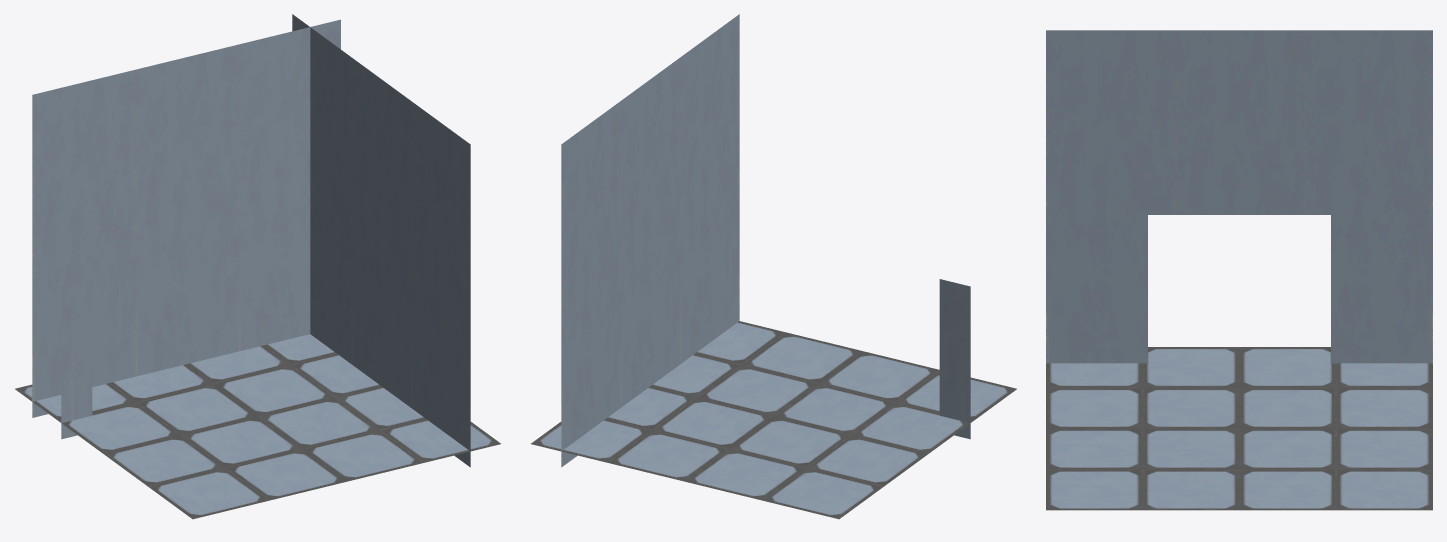
The model's file is Room_MTN_Door_End_1.glb.
3 views of the same model, side by side, from view 1: azimuth 30°, elevation 25°; view 2: azimuth 150°, elevation 25°; view 3: azimuth 270°, elevation 25° (orthographic). The views are drawn at different scales.
Visible parts, largest first — view 1: Room_MTN_Door_End_1; view 2: Room_MTN_Door_End_1; view 3: Room_MTN_Door_End_1.
Part boxes in pixels (x1,y1,x2,y2): Room_MTN_Door_End_1: (15, 14, 500, 519); Room_MTN_Door_End_1: (531, 14, 1016, 519); Room_MTN_Door_End_1: (1046, 30, 1432, 510).
Size of the model in its own units: 4 by 4 by 4.
2 materials, 2 textured.
